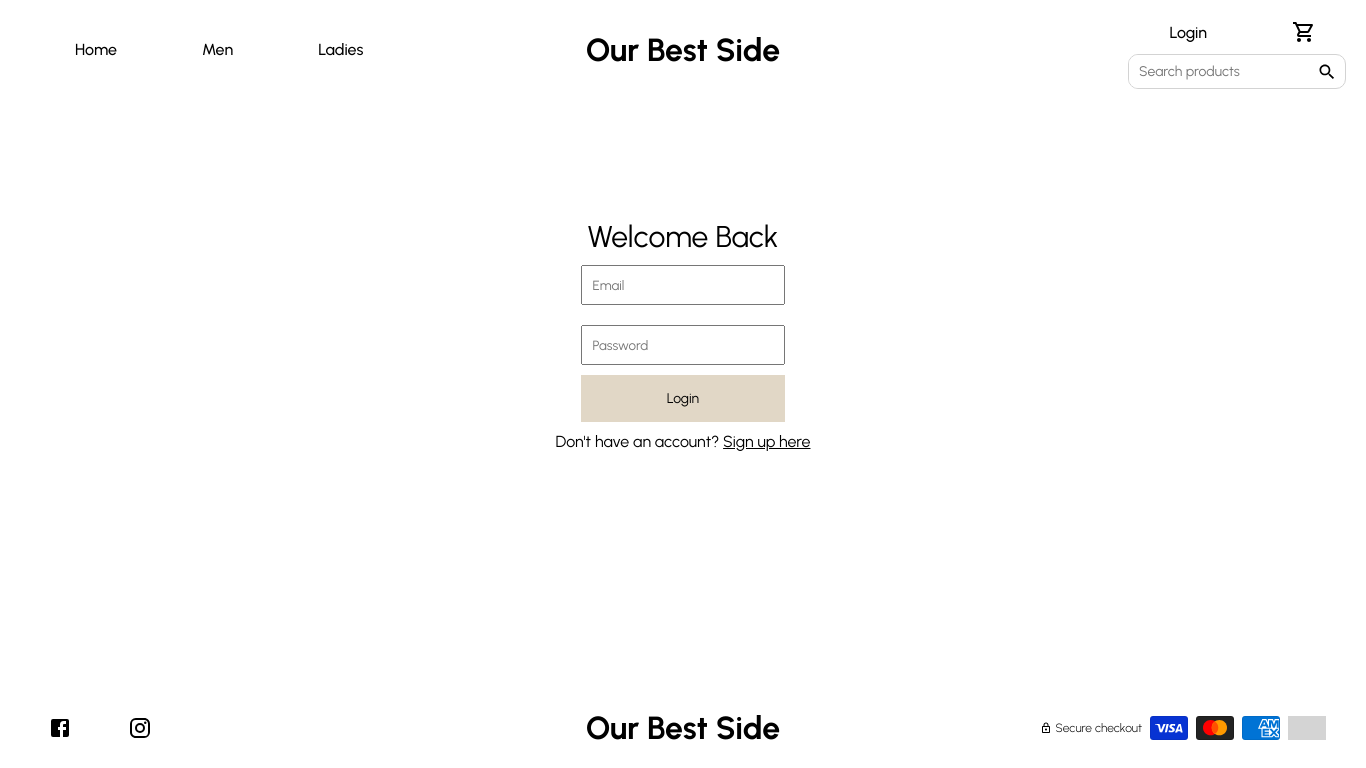
Test case: Login › shows a wrong password on the page
Type "a@b.com" into the field with placeholder "Email" at coordinates (683, 285), box x1=580 y1=265 x2=785 y2=305
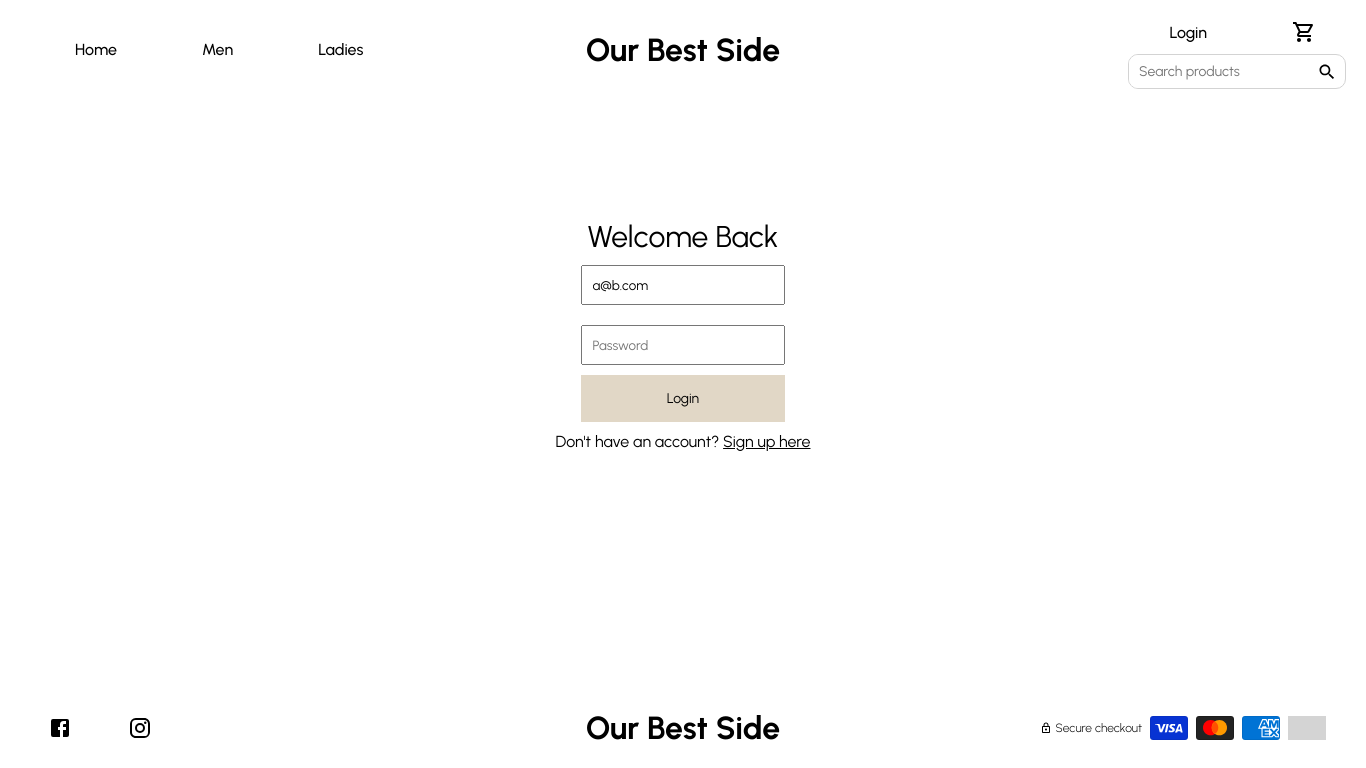
Type "password123" into the password field with placeholder "Password" at coordinates (683, 345), box x1=580 y1=325 x2=785 y2=365
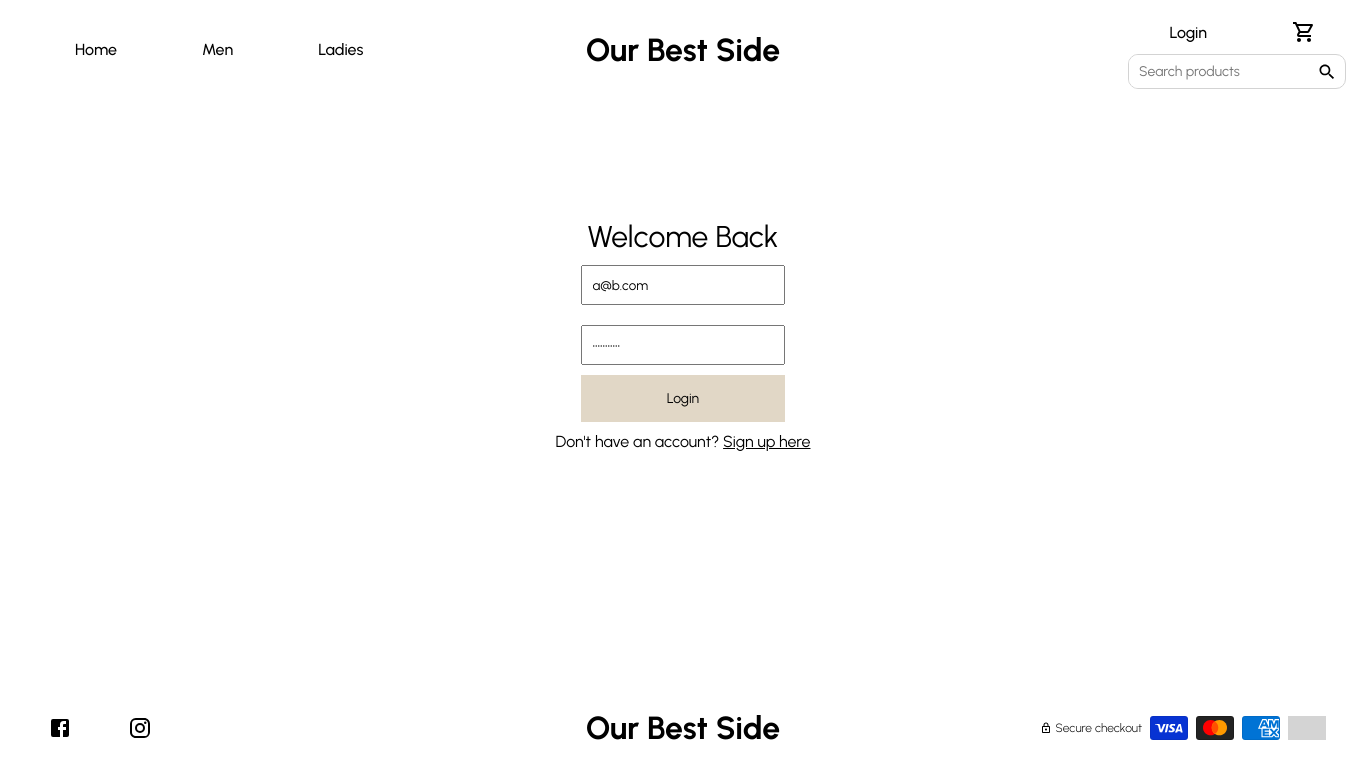
Click the button "Login" at coordinates (683, 398), box x1=580 y1=375 x2=785 y2=422
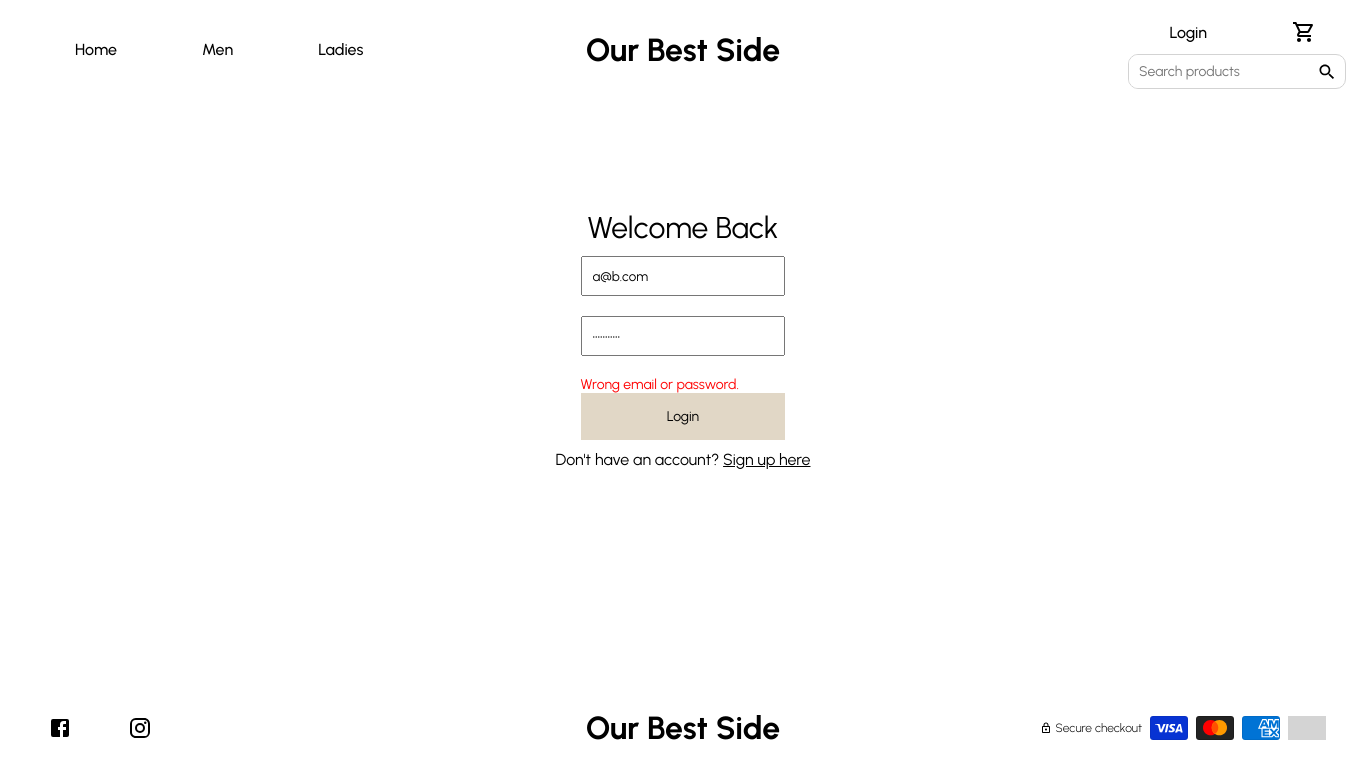
Check: the message reads "Wrong email or password.", box x1=580 y1=376 x2=739 y2=393
